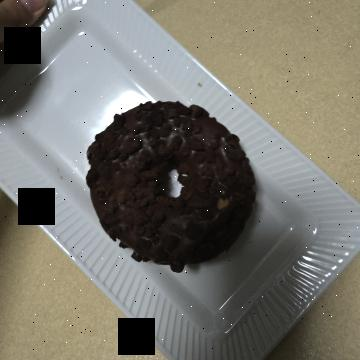doughnut: (93, 95, 290, 286)
